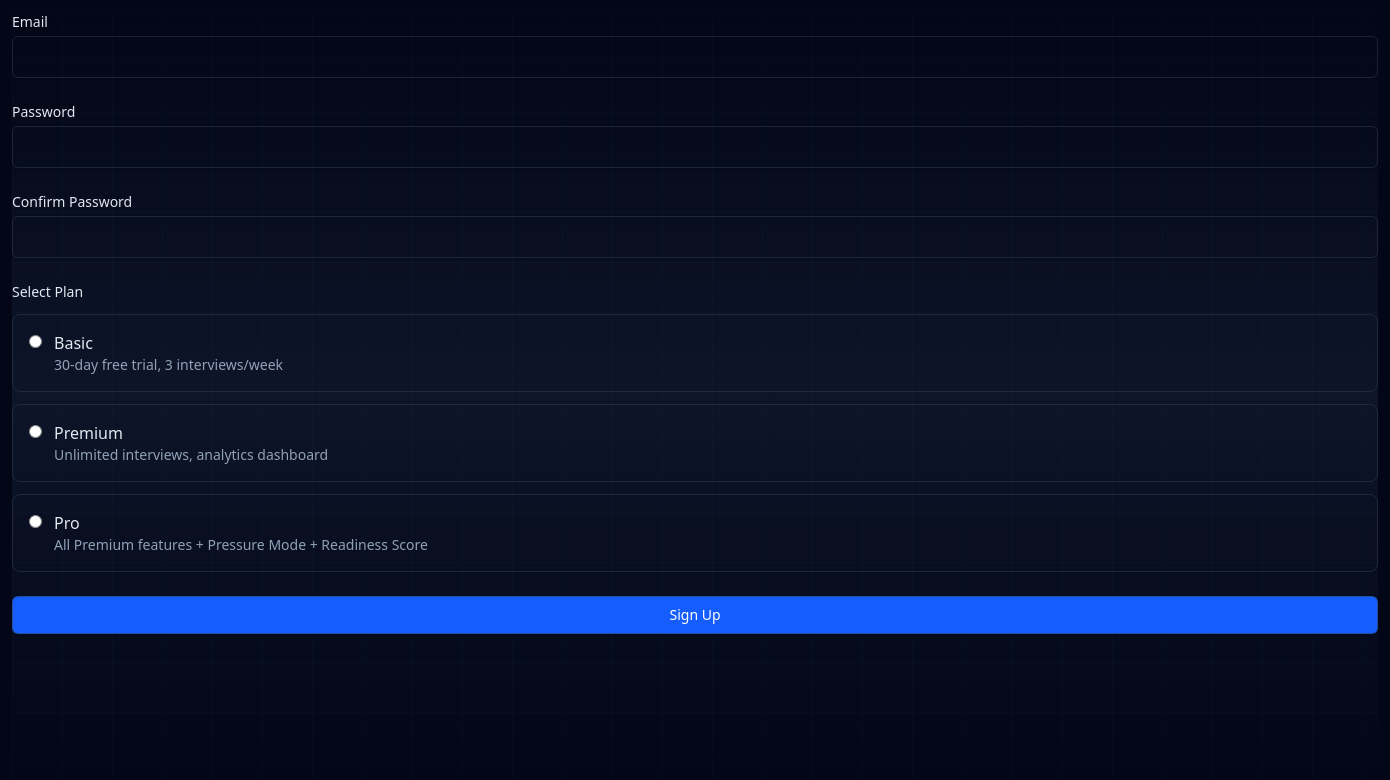
SignupForm › Form Validation - Email › should show error for invalid email format
This screenshot has width=1390, height=780.
Note: Fill in all fields - use an email that passes HTML5 validation but fails our regex
Type "test@invalid" into the field with test id "email-input" at x=695, y=57, box [12, 36, 1378, 78]
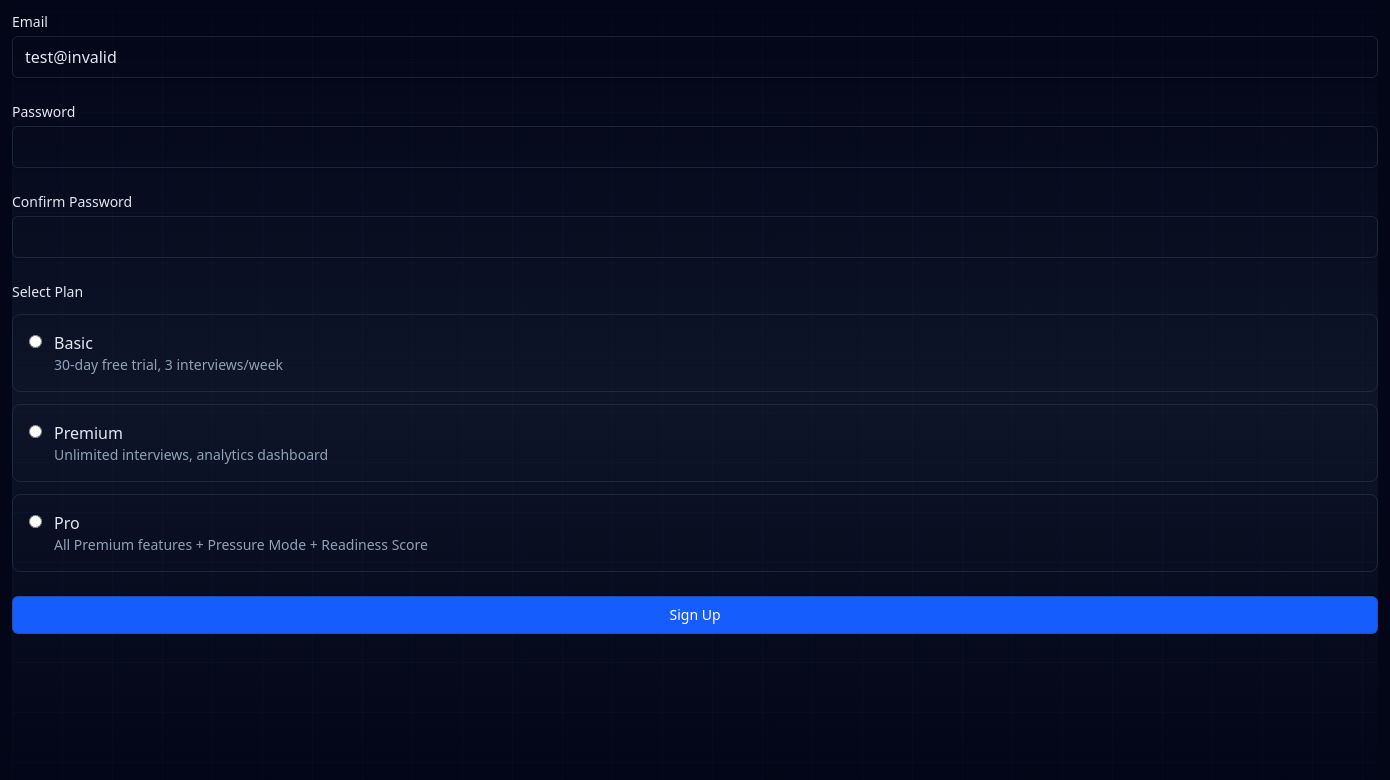
Type "password123" into the password field with test id "password-input" at x=695, y=147, box [12, 126, 1378, 168]
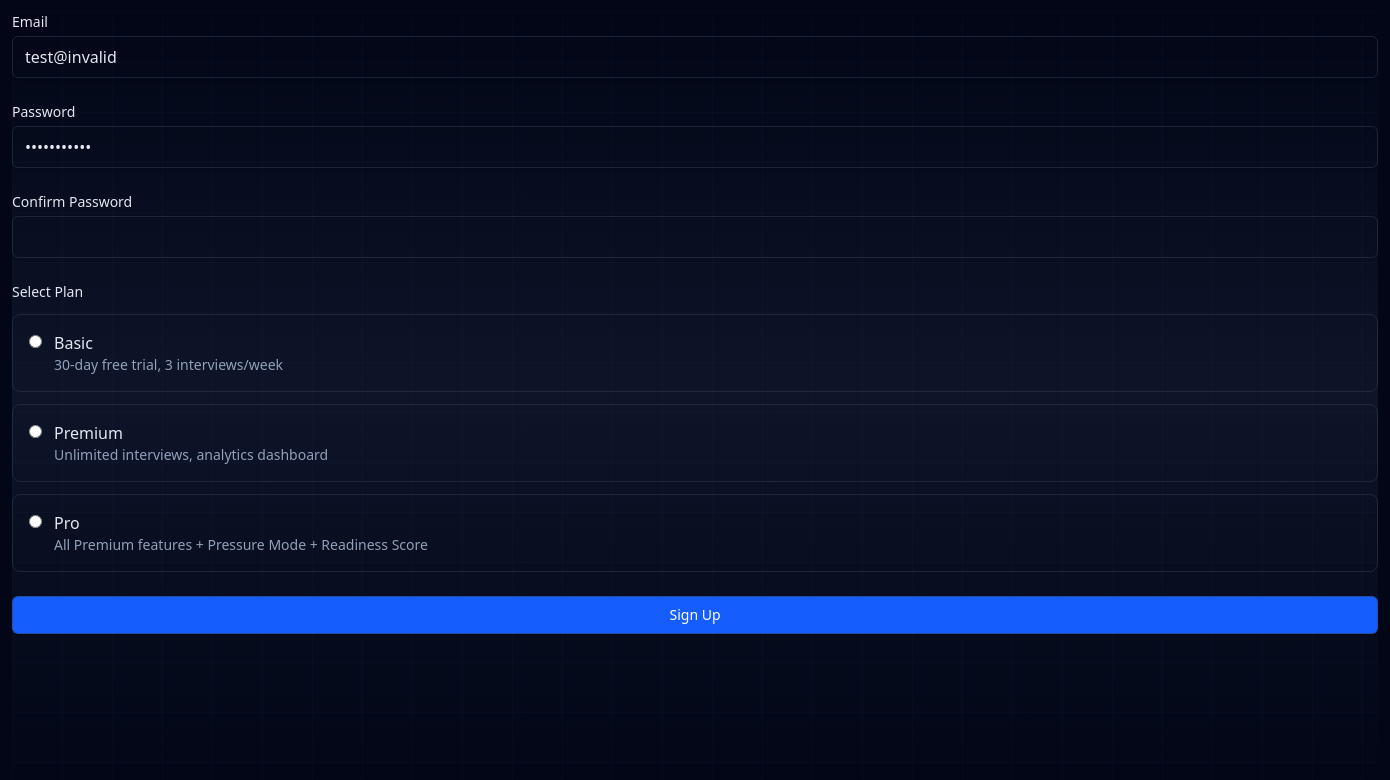
Type "password123" into the password field with test id "confirm-password-input" at x=695, y=237, box [12, 216, 1378, 258]
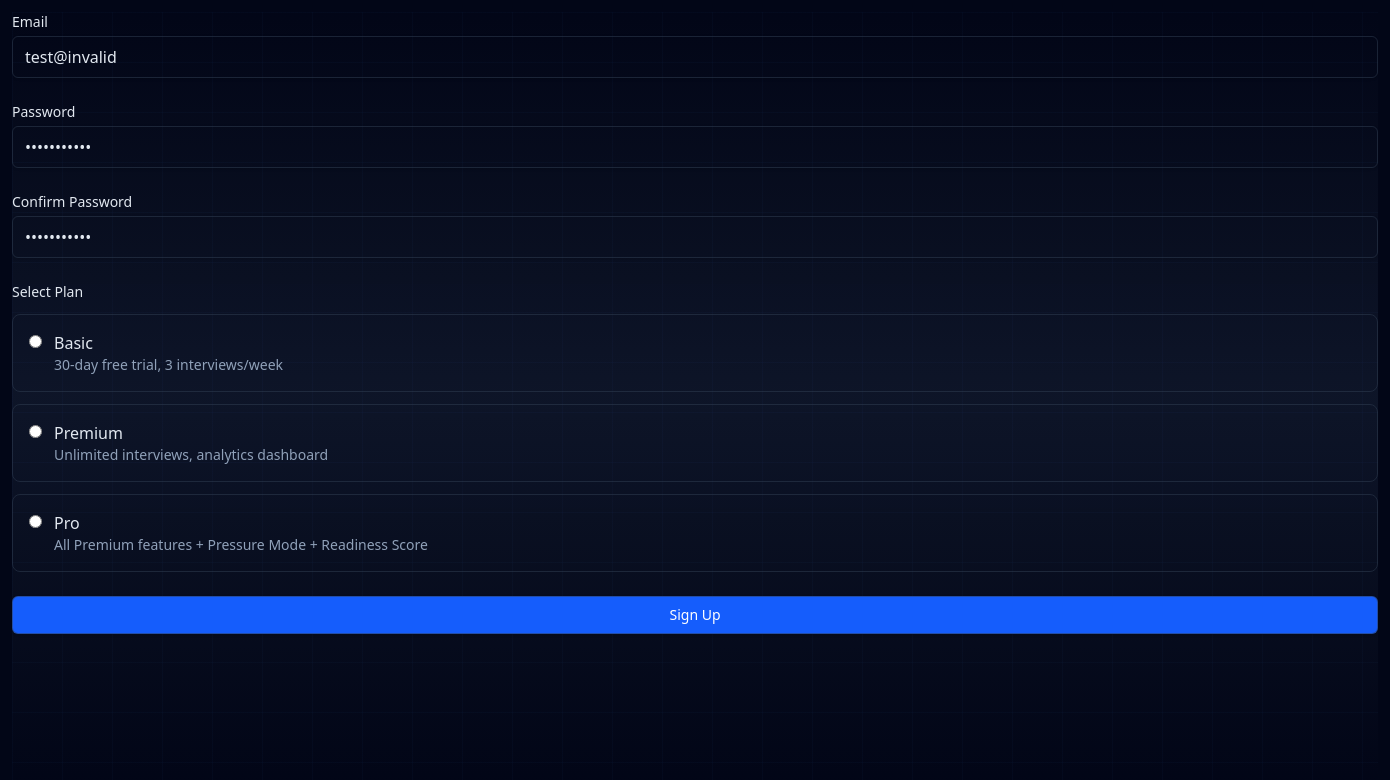
Click the radio button with test id "plan-basic" at x=36, y=342, box [29, 335, 42, 348]
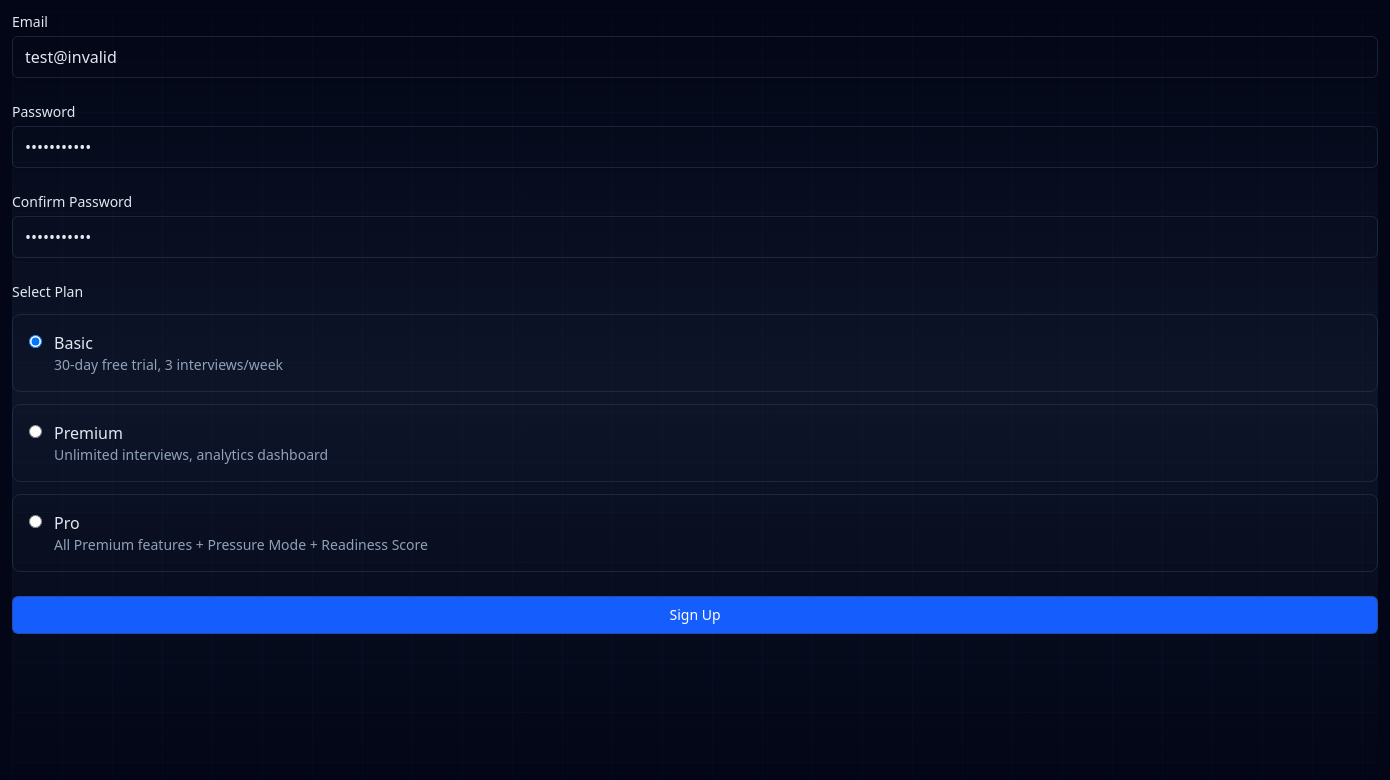
Click the button with test id "submit-button" at x=695, y=615, box [12, 596, 1378, 634]
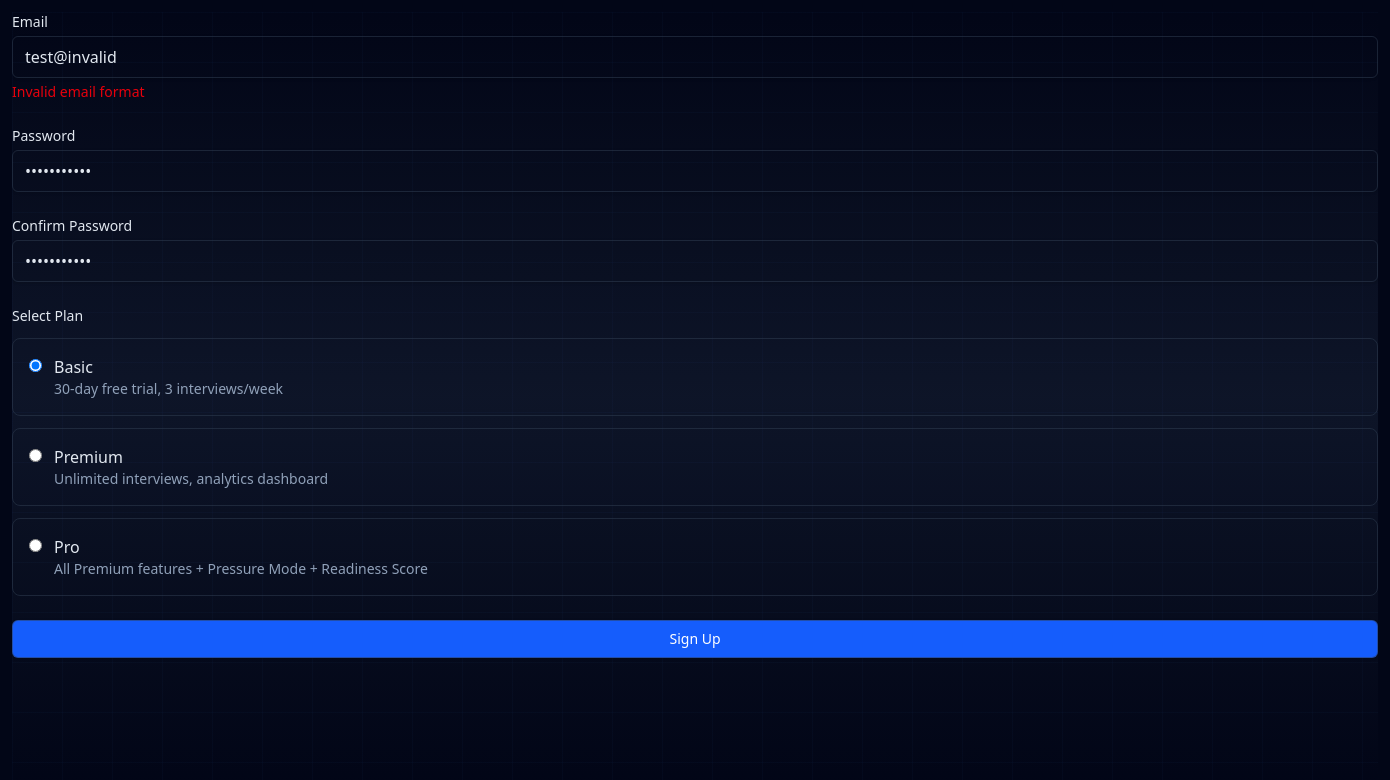
Expected: the text with test id "email-error" reads "Invalid email format", [12, 82, 145, 101]
